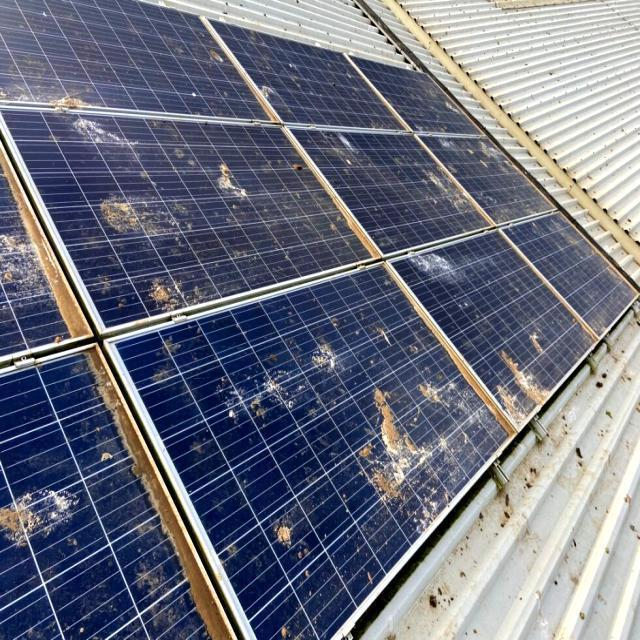soiled: (3, 2, 634, 640)
